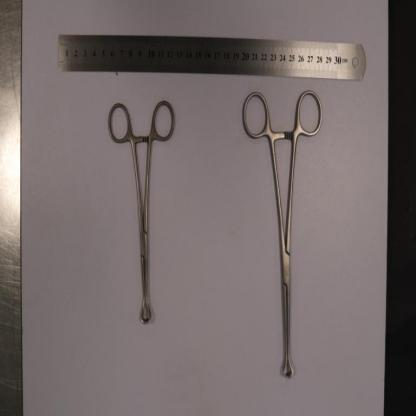8 Babcock Tissue Forceps: (243, 90, 323, 377)
Babcock Tissue Forceps: (108, 102, 174, 324)
